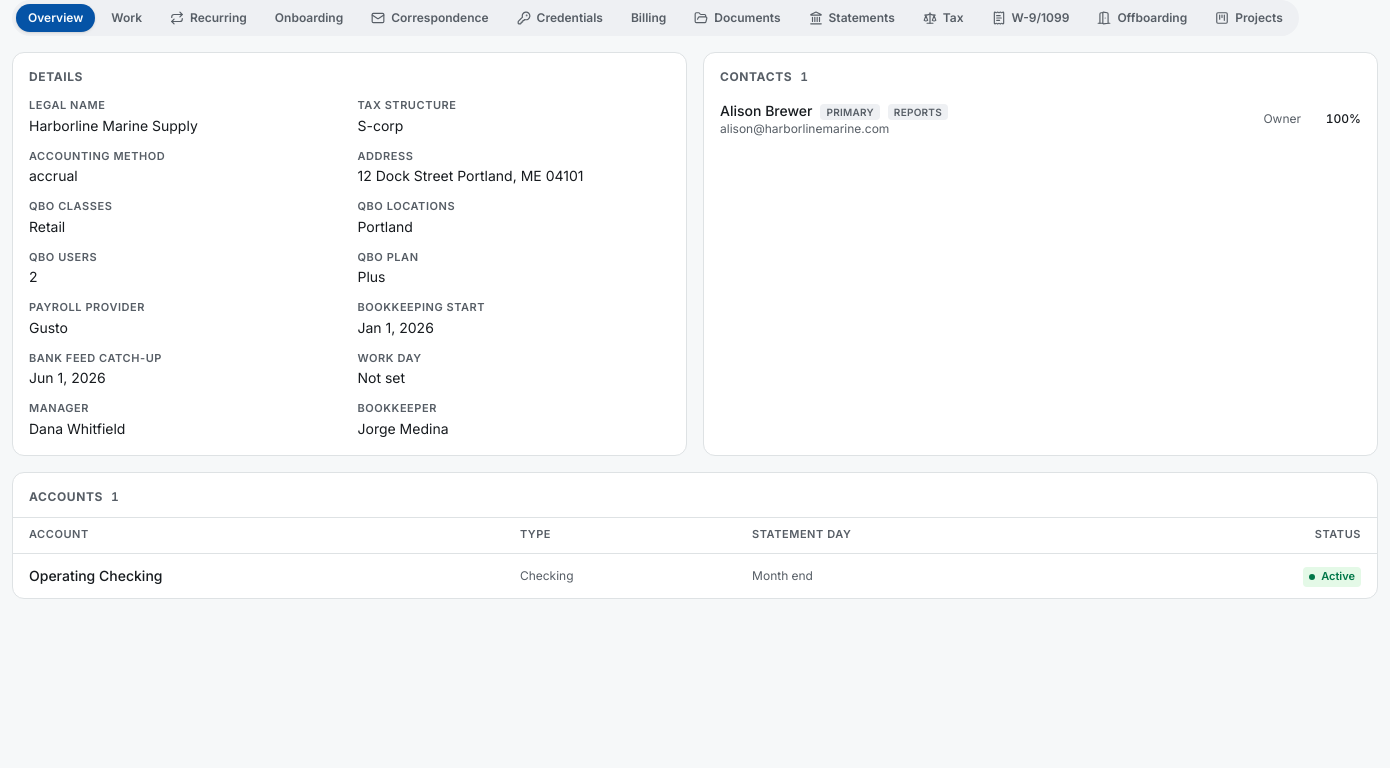
Test case: ClientDetailTabs content › renders billing lines with the manual-edit marker and the monthly total
What coordinates should you click on to do the following:
click the tab with test id "billing-tab"
I would click on:
 (649, 18)
Its box is [619,4,678,32].
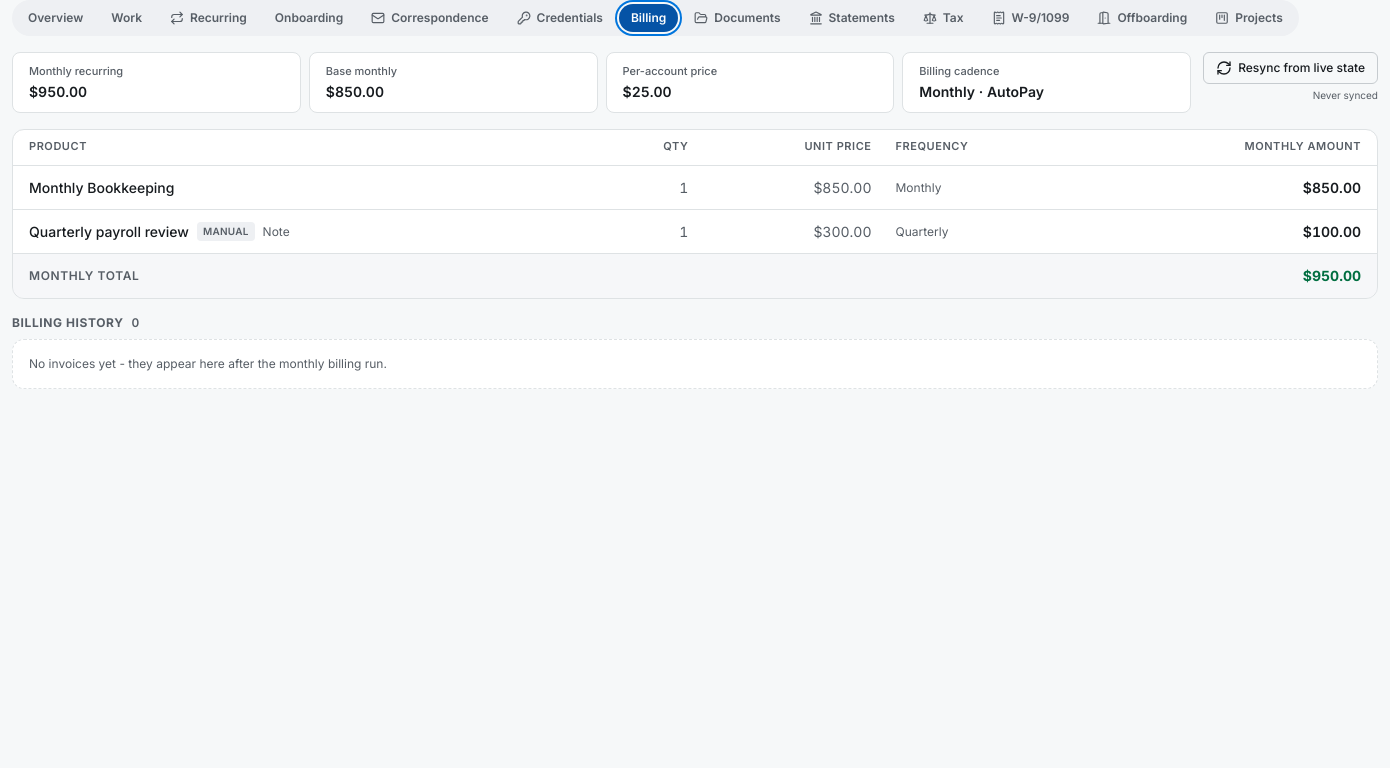
Result: the number of rows with test id "billing-line" is 2 at [13,166,1377,210]; [13,210,1377,254]
Result: the text "Manual" is shown at [197,222,255,241]
Result: the text "$850.00" is shown at [326,82,384,100]
